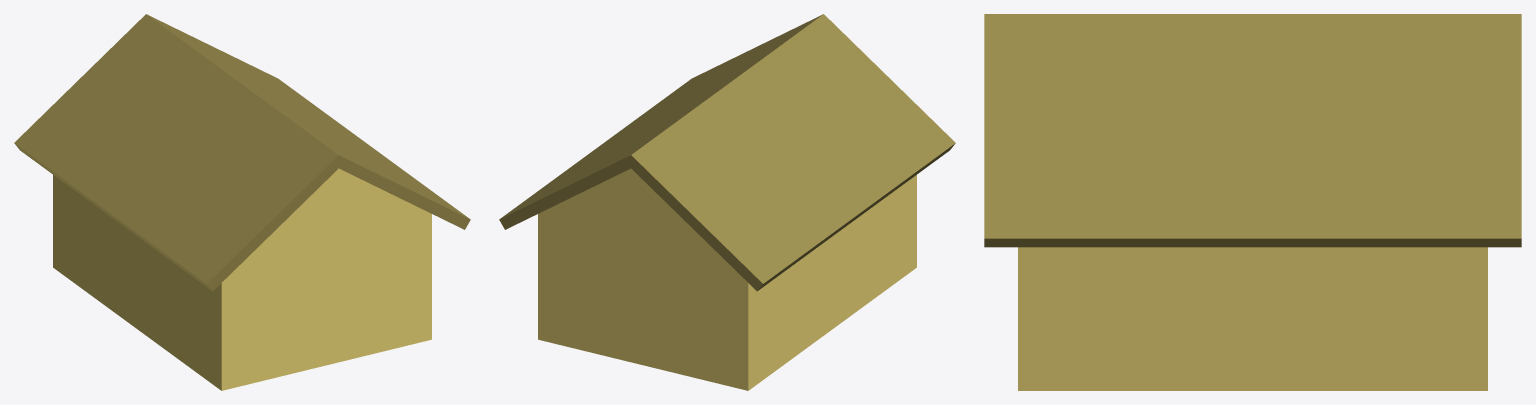
The model's file is result.glb.
3 views of the same model, side by side, from view 1: azimuth 30°, elevation 25°; view 2: azimuth 150°, elevation 25°; view 3: azimuth 270°, elevation 25° (orthographic). The views are drawn at different scales.
Parts seen in each view (by area): view 1: 468cc7f7-8e00-4107-9808-776f91246d5d__undefined (×2), 30422c9b-a135-44fb-959f-a755f519fc4b__undefined; view 2: 468cc7f7-8e00-4107-9808-776f91246d5d__undefined (×2), 30422c9b-a135-44fb-959f-a755f519fc4b__undefined; view 3: 468cc7f7-8e00-4107-9808-776f91246d5d__undefined, 30422c9b-a135-44fb-959f-a755f519fc4b__undefined.
Boxes of the visible parts, <box> form: 468cc7f7-8e00-4107-9808-776f91246d5d__undefined (×2): <box>14,14,470,291</box>; 30422c9b-a135-44fb-959f-a755f519fc4b__undefined: <box>53,168,431,390</box>; 468cc7f7-8e00-4107-9808-776f91246d5d__undefined (×2): <box>499,14,955,291</box>; 30422c9b-a135-44fb-959f-a755f519fc4b__undefined: <box>538,168,916,390</box>; 468cc7f7-8e00-4107-9808-776f91246d5d__undefined: <box>984,14,1521,247</box>; 30422c9b-a135-44fb-959f-a755f519fc4b__undefined: <box>1018,247,1487,390</box>.
Bounding box in the file's own units: 631 × 500 × 797.
